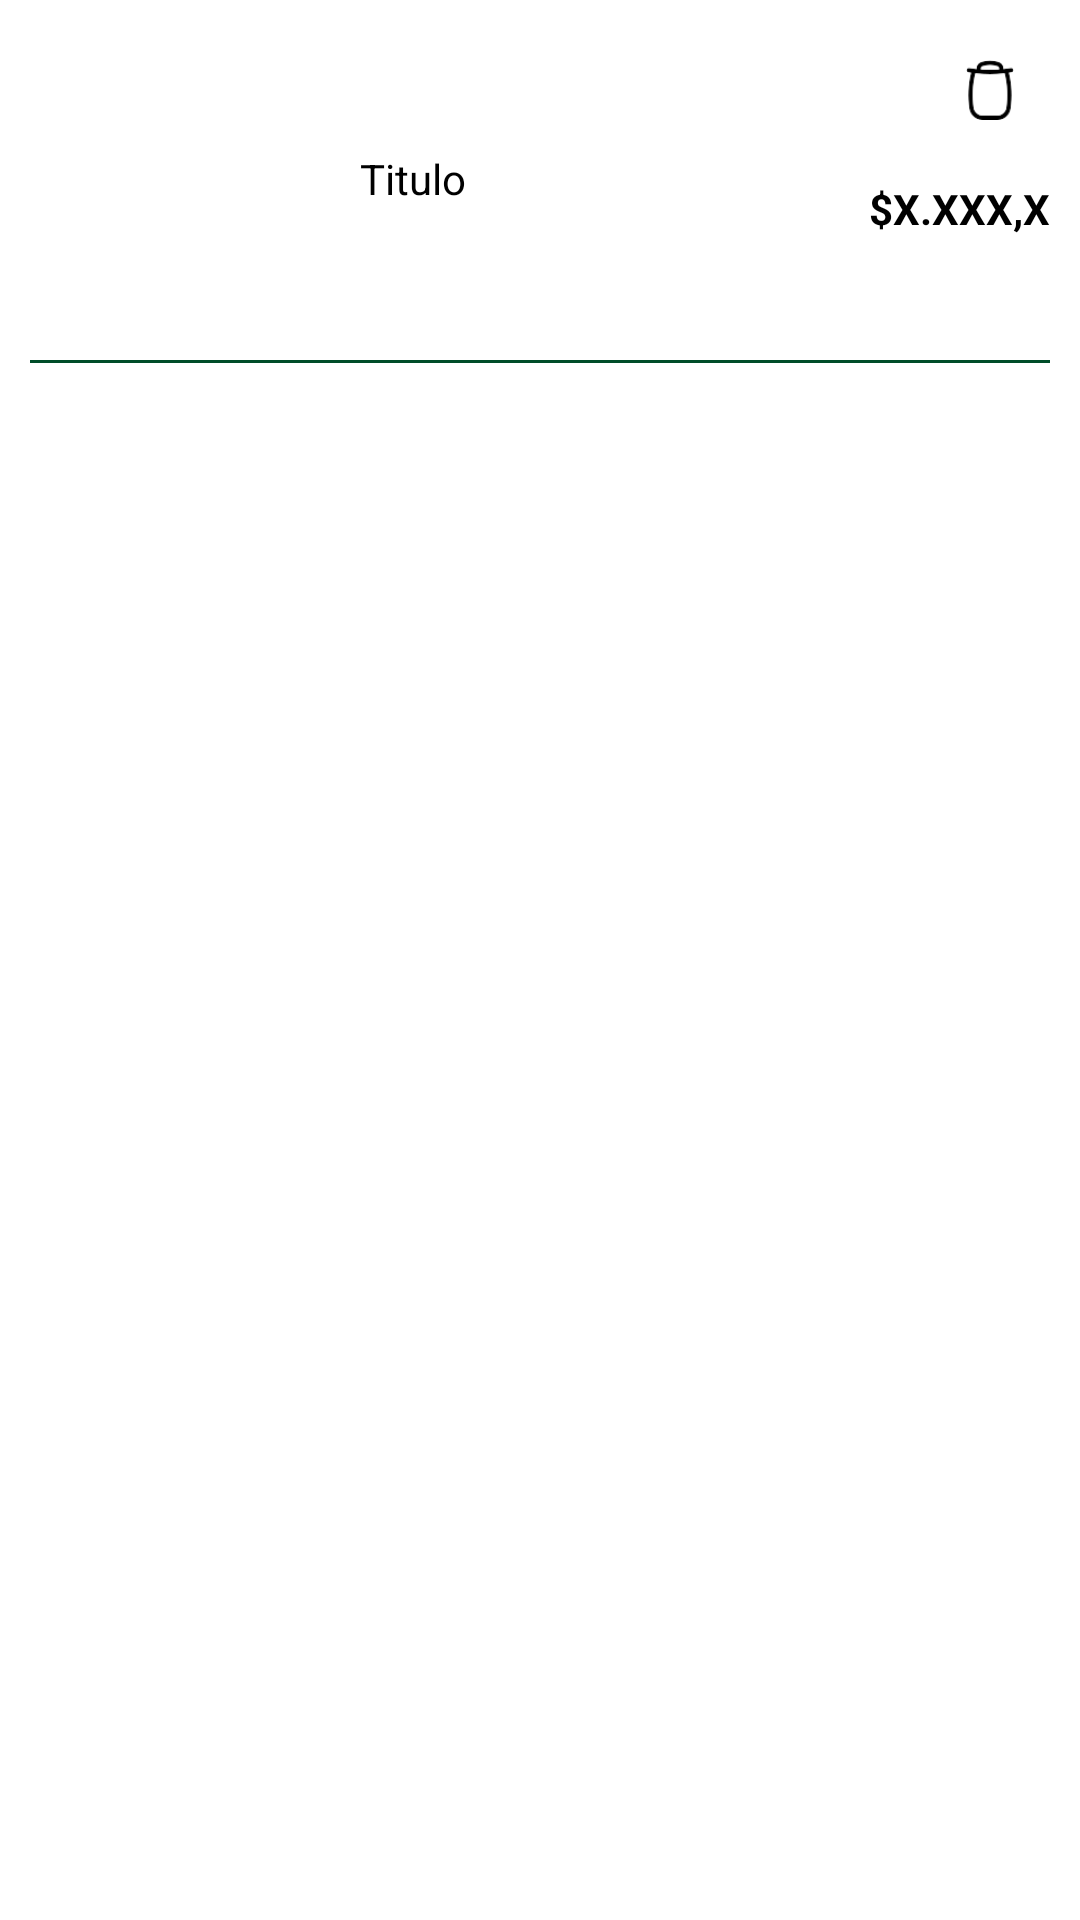

Icons on this 1080x1920 Android screen, each with its box as (x1, y1, x2, y2):
trash: (966, 60, 1014, 120)
